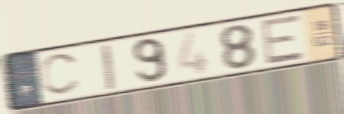4: (176, 28, 215, 78)
8: (218, 23, 258, 71)
9: (131, 35, 170, 87)
C: (39, 51, 82, 98)
E: (260, 12, 306, 67)
I: (98, 42, 118, 92)
